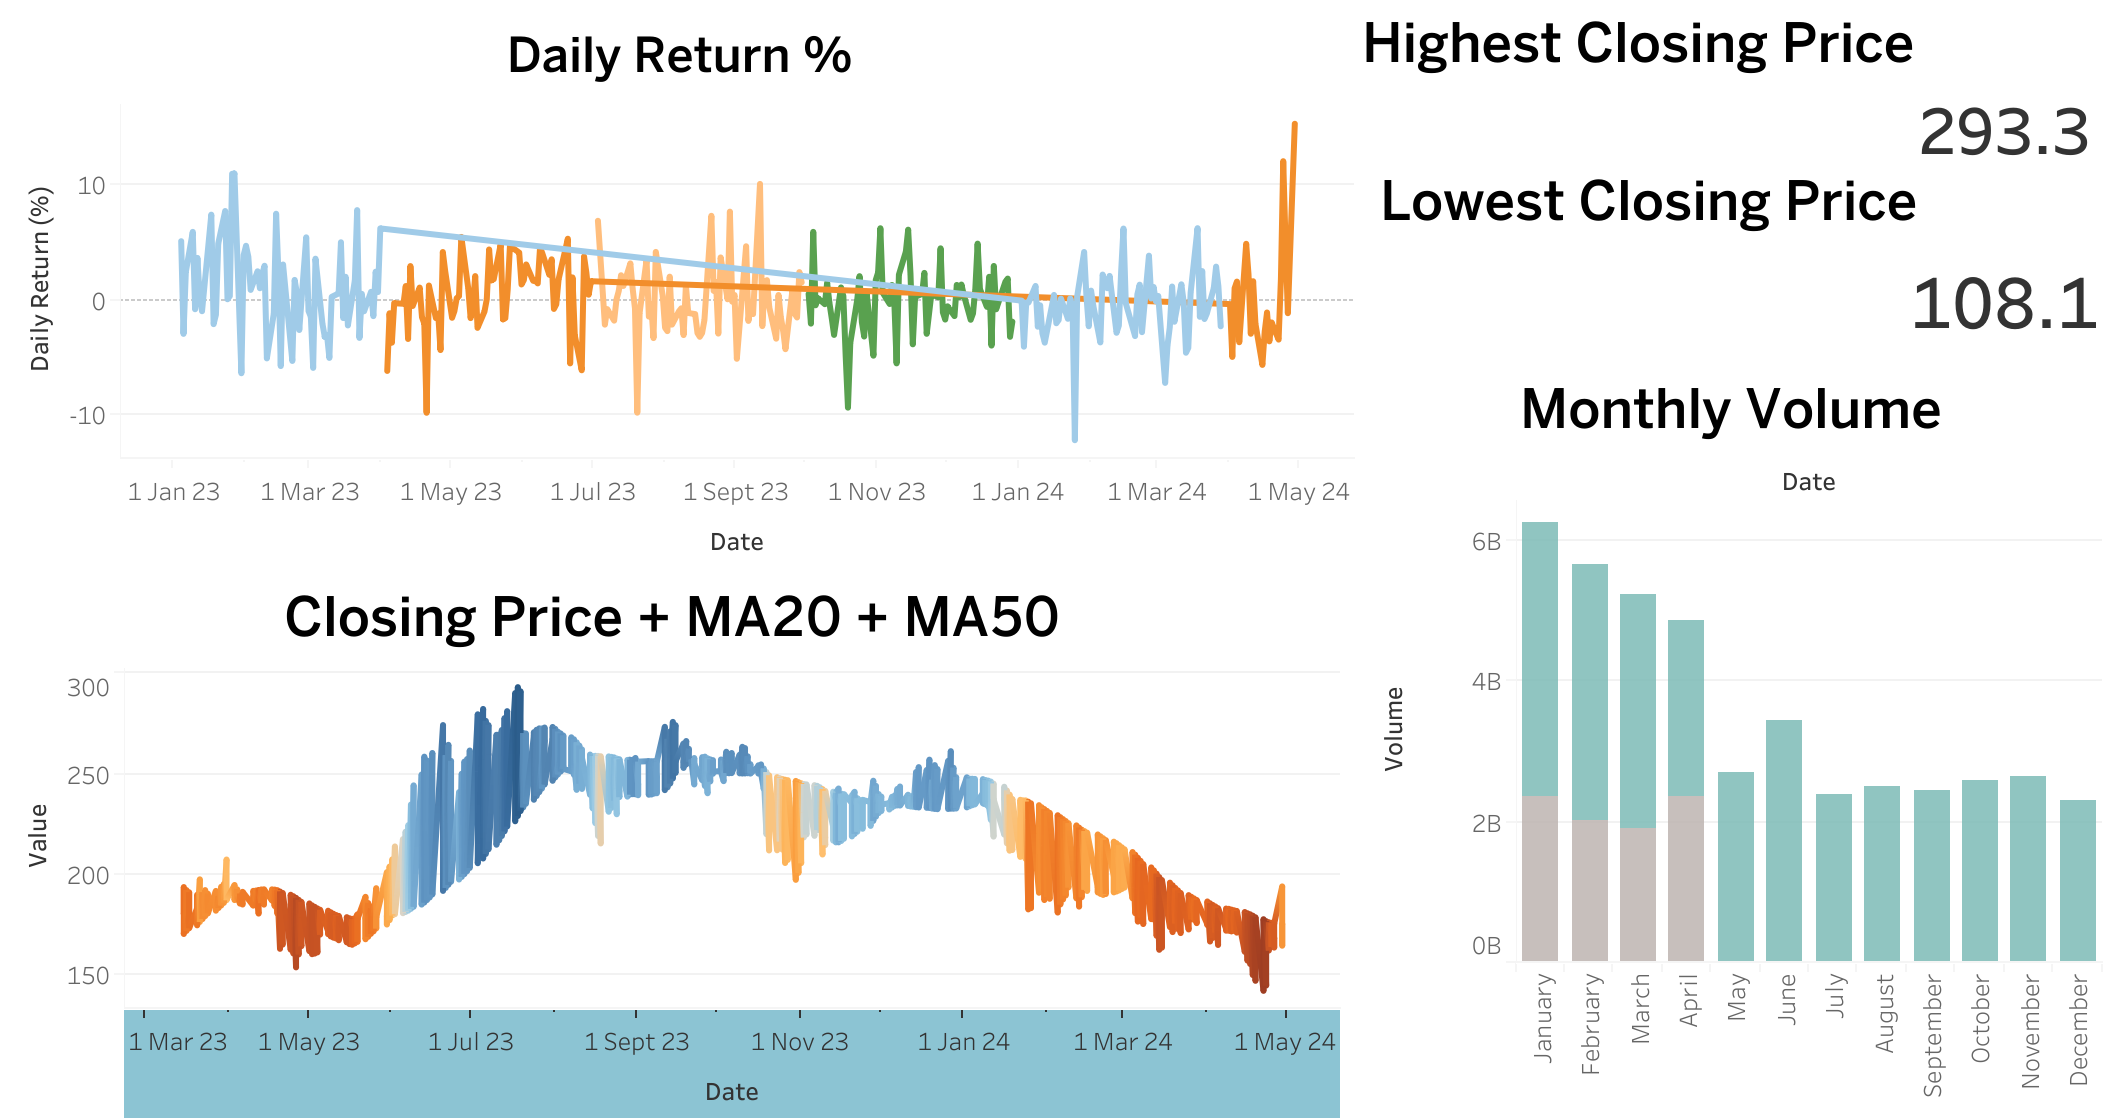

This screenshot's page, from the dashboard's own definition file:
{"tool":"tableau","page":{"name":"Dashboard 1","canvas":[1000,1000],"units":"permille","ordinal":0},"visuals":[{"type":"worksheet","title":"Sheet 6","mark":"Line","rows":["Daily Return (%)"],"cols":["Price"],"box":[2.5,12.3,640.8,497.5]},{"type":"worksheet","title":"Sheet 2","mark":"Automatic","box":[651.7,140.1,349.2,170.8]},{"type":"worksheet","title":"Sheet 5","mark":"Bar","rows":["Volume"],"cols":["Price"],"box":[645.8,325.6,352.5,676.9]},{"type":"worksheet","title":"Sheet 4","mark":"Line","cols":["Price"],"box":[1.7,511.1,635,490.2]}]}

Visuals, with their boxes on the dashboard's canvas, which has no fixed pixel size, in thousandths of its width and height (x1, y1, x2, y2). These are canvas units, not pixel positions in the 2104x1118 screenshot, which may show the page scaled, cropped or inside an application window:
"Sheet 6" worksheet (Line marks): BBox(2, 12, 643, 510)
"Sheet 2" worksheet: BBox(652, 140, 1001, 311)
"Sheet 5" worksheet (Bar marks): BBox(646, 326, 998, 1002)
"Sheet 4" worksheet (Line marks): BBox(2, 511, 637, 1001)
